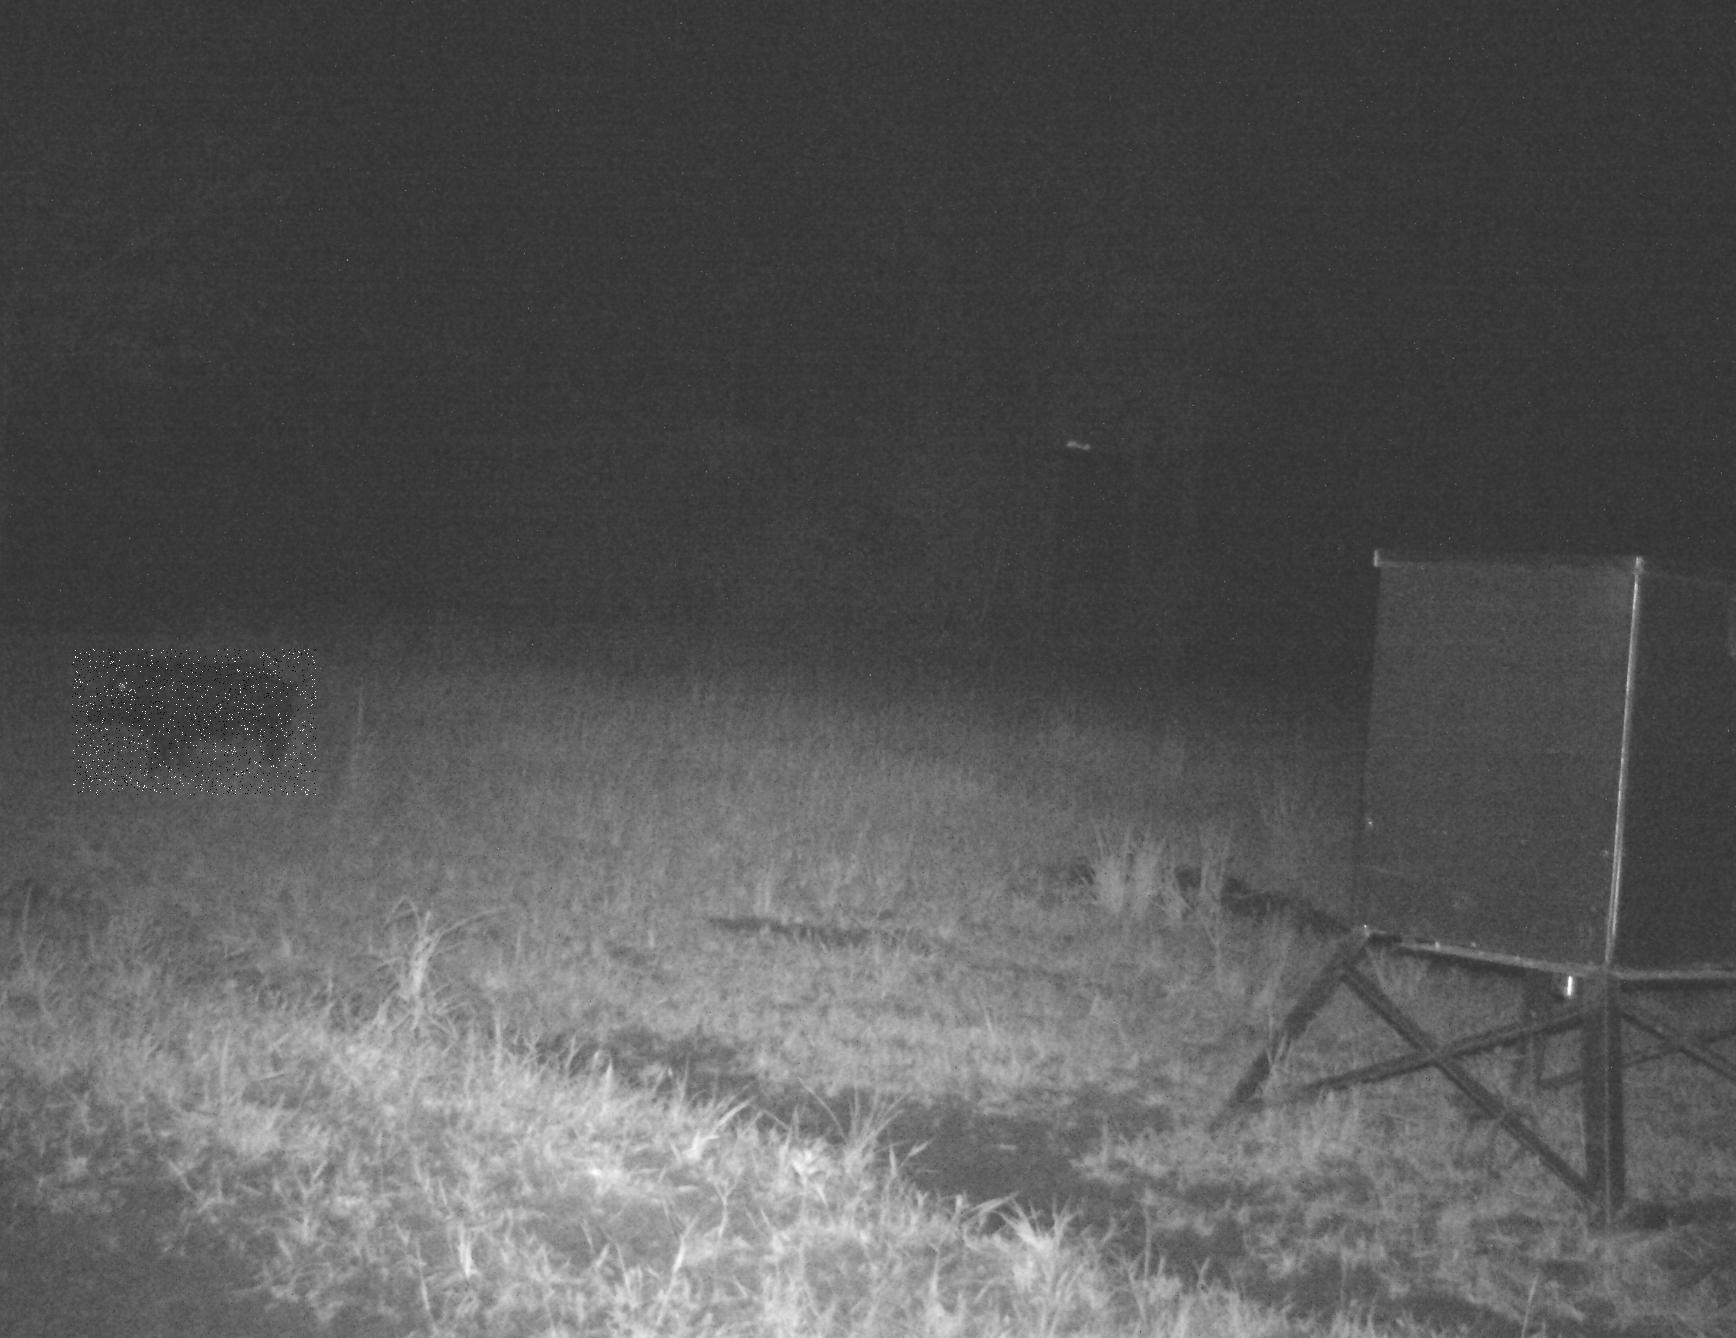Hog: (72, 649, 316, 795)
